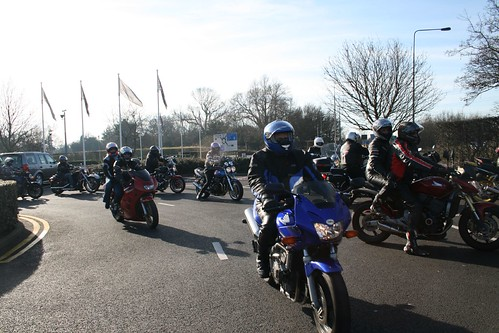helmet: (260, 119, 294, 152), (395, 122, 425, 141), (374, 119, 388, 139), (343, 127, 362, 140), (100, 137, 116, 152), (203, 137, 221, 150), (119, 144, 134, 158), (53, 151, 70, 161), (147, 143, 159, 157), (312, 134, 324, 145)
